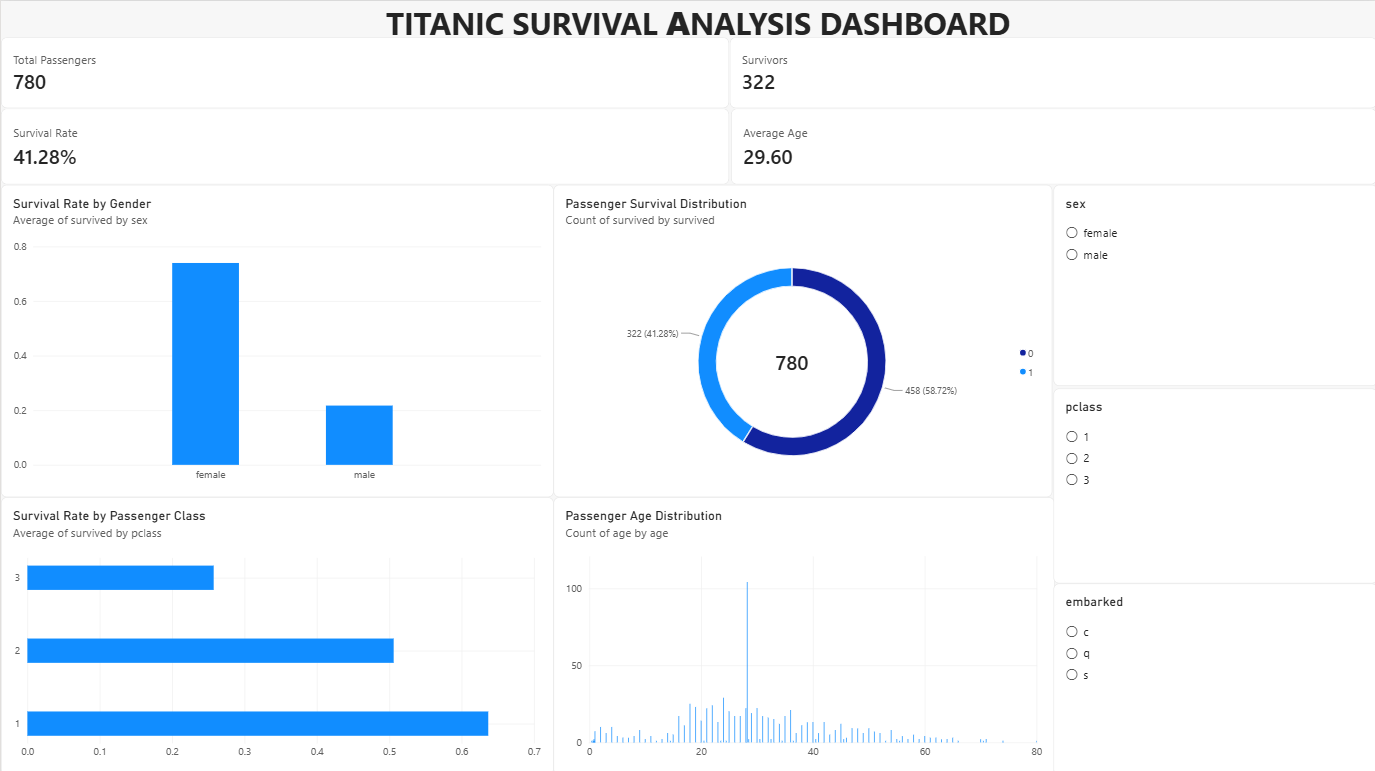

This screenshot's page, from the dashboard's own definition file:
{"tool":"powerbi","page":{"name":"Page 1","canvas":[1920,1080],"ordinal":0},"visuals":[{"type":"clusteredColumnChart","title":"Survival Rate by Gender","fields":{"Category":["titanic_cleaned.sex"],"Y":["Avg(titanic_cleaned.survived)"]},"box":[0,256.4,770.9,436],"z":0},{"type":"clusteredBarChart","title":"Survival Rate by Passenger Class","fields":{"Category":["titanic_cleaned.pclass"],"Y":["Avg(titanic_cleaned.survived)"]},"box":[0,692.4,770.9,387.2],"z":1},{"type":"donutChart","title":"Passenger Survival Distribution","fields":{"Category":["titanic_cleaned.survived"],"Y":["CountNonNull(titanic_cleaned.survived)"]},"box":[770.9,256.4,695.9,436],"z":2},{"type":"clusteredColumnChart","title":"Passenger Age Distribution","fields":{"Category":["titanic_cleaned.age"],"Y":["CountNonNull(titanic_cleaned.age)"]},"box":[770.9,692.4,699.4,387.2],"z":3},{"type":"cardVisual","fields":{"Data":["titanic_cleaned.Total Passengers"]},"box":[0,50.6,1016.9,99.4],"z":4},{"type":"cardVisual","fields":{"Data":["titanic_cleaned.Survivors"]},"box":[1016.9,50.6,903.5,99.4],"z":5},{"type":"cardVisual","fields":{"Data":["titanic_cleaned.Survival Rate"]},"box":[0,150,1016.9,106.4],"z":6},{"type":"cardVisual","fields":{"Data":["titanic_cleaned.Average Age"]},"box":[1018.6,150,901.7,106.4],"z":7},{"type":"listSlicer","fields":{"Values":["titanic_cleaned.sex"]},"box":[1468.6,256.4,451.7,280.8],"z":8},{"type":"listSlicer","fields":{"Values":["titanic_cleaned.pclass"]},"box":[1468.6,540.7,451.7,272.1],"z":9},{"type":"listSlicer","fields":{"Values":["titanic_cleaned.embarked"]},"box":[1468.6,812.8,451.7,266.9],"z":10},{"type":"textbox","box":[100,100,300,300],"z":11},{"type":"textbox","box":[537.2,0,999.4,176.2],"z":12}]}

Visuals, with their boxes in screenshot pixels (x1, y1, x2, y2), scaled from the page's 1920x1080 canvas onto the 1375x771 screenshot:
"Survival Rate by Gender" clusteredColumnChart: (0, 183, 552, 494)
"Survival Rate by Passenger Class" clusteredBarChart: (0, 494, 552, 770)
"Passenger Survival Distribution" donutChart: (552, 183, 1050, 494)
"Passenger Age Distribution" clusteredColumnChart: (552, 494, 1053, 770)
cardVisual - titanic_cleaned.Total Passengers: (0, 36, 728, 107)
cardVisual - titanic_cleaned.Survivors: (728, 36, 1374, 107)
cardVisual - titanic_cleaned.Survival Rate: (0, 107, 728, 183)
cardVisual - titanic_cleaned.Average Age: (729, 107, 1374, 183)
listSlicer - titanic_cleaned.sex: (1052, 183, 1374, 384)
listSlicer - titanic_cleaned.pclass: (1052, 386, 1374, 580)
listSlicer - titanic_cleaned.embarked: (1052, 580, 1374, 770)
textbox: (72, 71, 286, 286)
textbox: (385, 0, 1100, 126)
